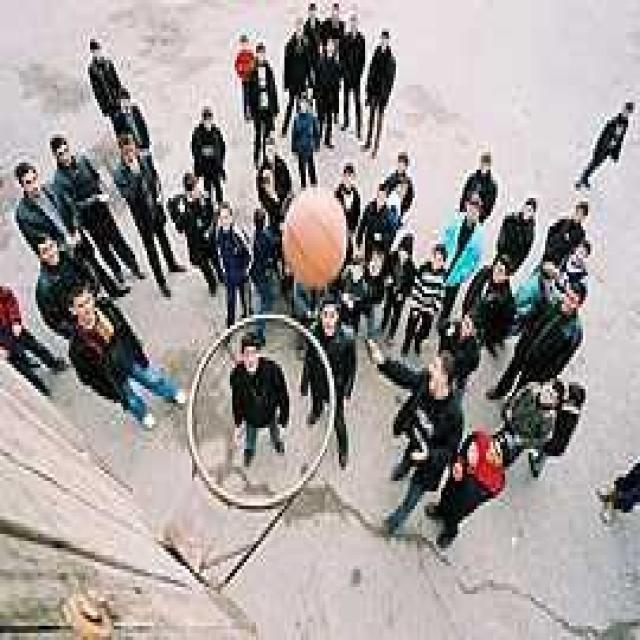Ball: (282, 188, 346, 287)
